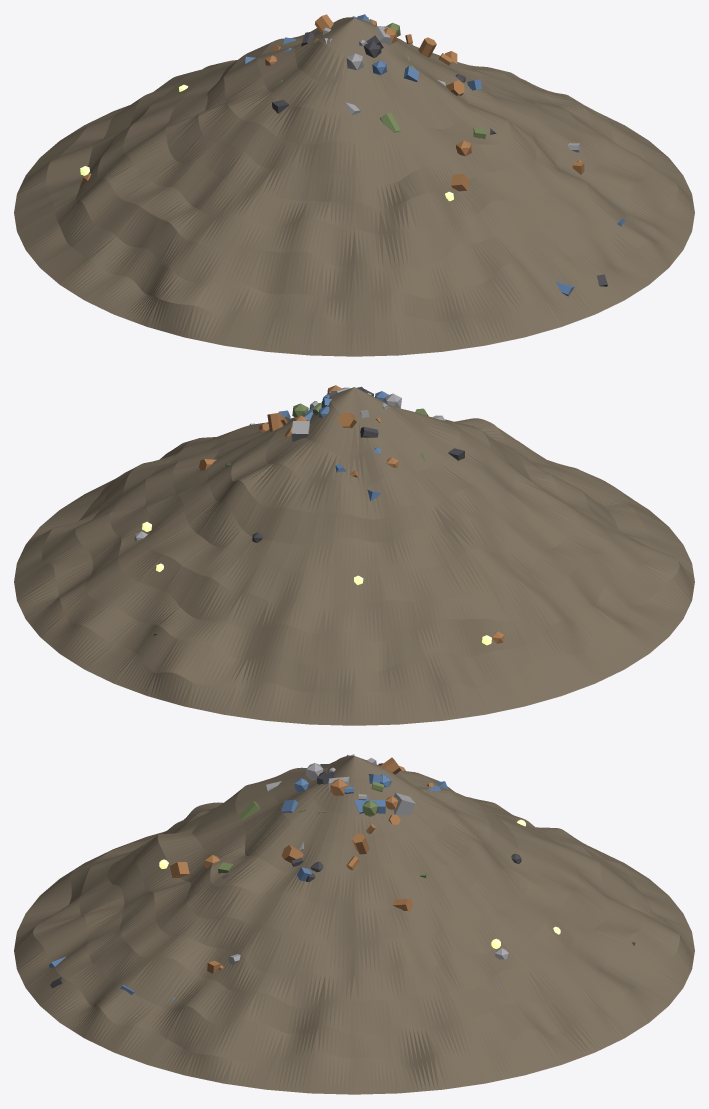
The model's file is junk_mountain.glb.
3 views of the same model, one above another, from view 1: azimuth 30°, elevation 25°; view 2: azimuth 150°, elevation 25°; view 3: azimuth 270°, elevation 25° (orthographic).
Visible parts, largest first — view 1: junk_mountain_LOD0; view 2: junk_mountain_LOD0; view 3: junk_mountain_LOD0.
Boxes of the visible parts, left/top/right/bottom form: junk_mountain_LOD0: left=14, top=14, right=694, bottom=356; junk_mountain_LOD0: left=14, top=385, right=694, bottom=725; junk_mountain_LOD0: left=14, top=754, right=694, bottom=1094.
Size of what is drawn, in the model's own units: 190 by 63.13 by 190.
